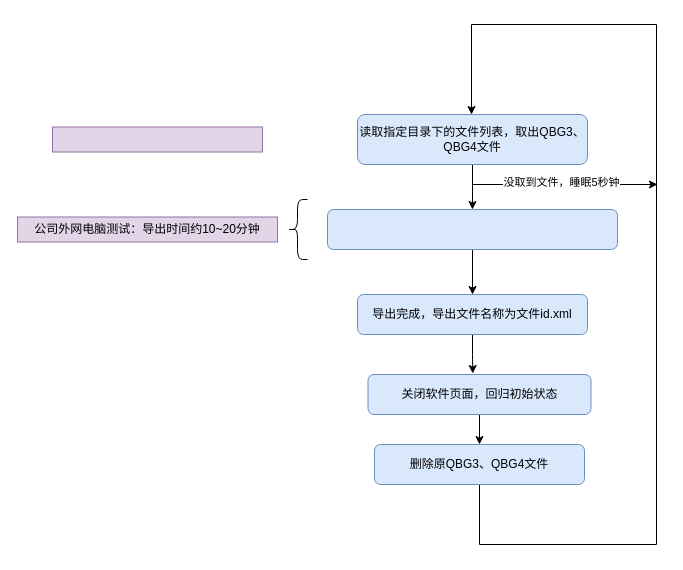
Image size: 683x570. Some labels were removed from this diagram. Here are the shapes that lost their labels. From the top down, the centre of each, then its label:
At (157,139): "采用文件id作为文件名".
At (472,229): "采用识别图像像素点的方式模拟鼠标点击完成导出操作".
